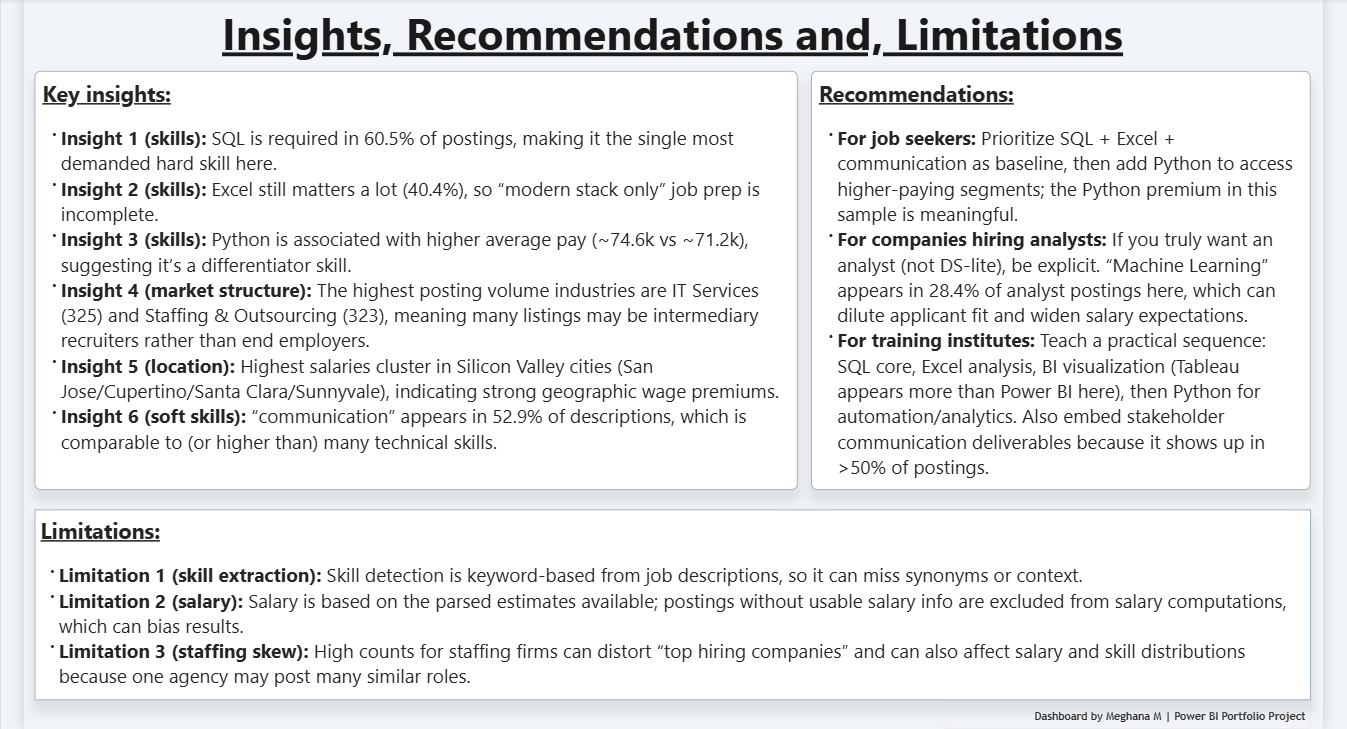

This screenshot's page, from the dashboard's own definition file:
{"tool":"powerbi","page":{"name":"Insights, Recommendations and, Limitations","canvas":[1280,720],"ordinal":4},"visuals":[{"type":"textbox","box":[10.4,0,1257,71.8],"z":0},{"type":"textbox","box":[10.4,71.8,751.9,412.5],"z":1000},{"type":"textbox","box":[775.4,71.8,492.1,412.5],"z":2000},{"type":"textbox","box":[905.9,691.8,361.6,28.7],"z":3000},{"type":"textbox","box":[10.4,503.8,1257,188],"z":4000}]}

Visuals, with their boxes on the page's 1280x720 design canvas (x1, y1, x2, y2). These are canvas units, not pixel positions in the 1347x729 screenshot, which may show the page scaled, cropped or inside an application window:
textbox: Rect(10, 0, 1267, 72)
textbox: Rect(10, 72, 762, 484)
textbox: Rect(775, 72, 1268, 484)
textbox: Rect(906, 692, 1268, 720)
textbox: Rect(10, 504, 1267, 692)
